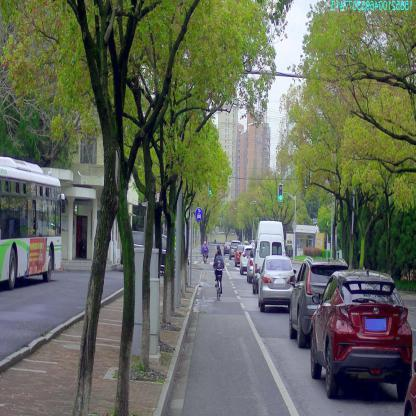traffic-light: (279, 184, 283, 200), (209, 184, 212, 196)
